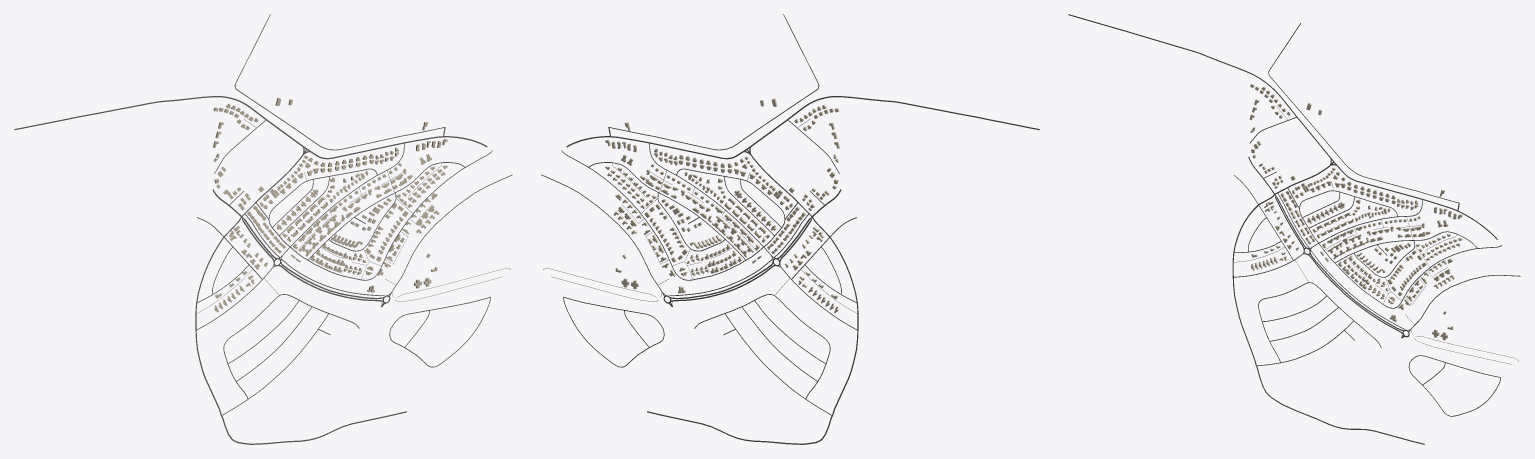
The model's file is historic-palestine-13_24_3546_3182.glb.
3 views of the same model, side by side, from view 1: azimuth 30°, elevation 25°; view 2: azimuth 150°, elevation 25°; view 3: azimuth 330°, elevation 25° (orthographic). The views are drawn at different scales.
Parts seen in each view (by area): view 1: Road .010, Road .012; view 2: Road .010, Road .012; view 3: Road .010, Road .012.
Part boxes in pixels (x1,y1,x2,y2): Road .010: [14, 96, 487, 159]; Road .012: [195, 216, 406, 444]; Road .010: [566, 96, 1039, 159]; Road .012: [647, 216, 858, 444]; Road .010: [1068, 14, 1497, 239]; Road .012: [1232, 194, 1424, 444].
Size of the model in its own units: 2060 by 1722 by 8.7.
